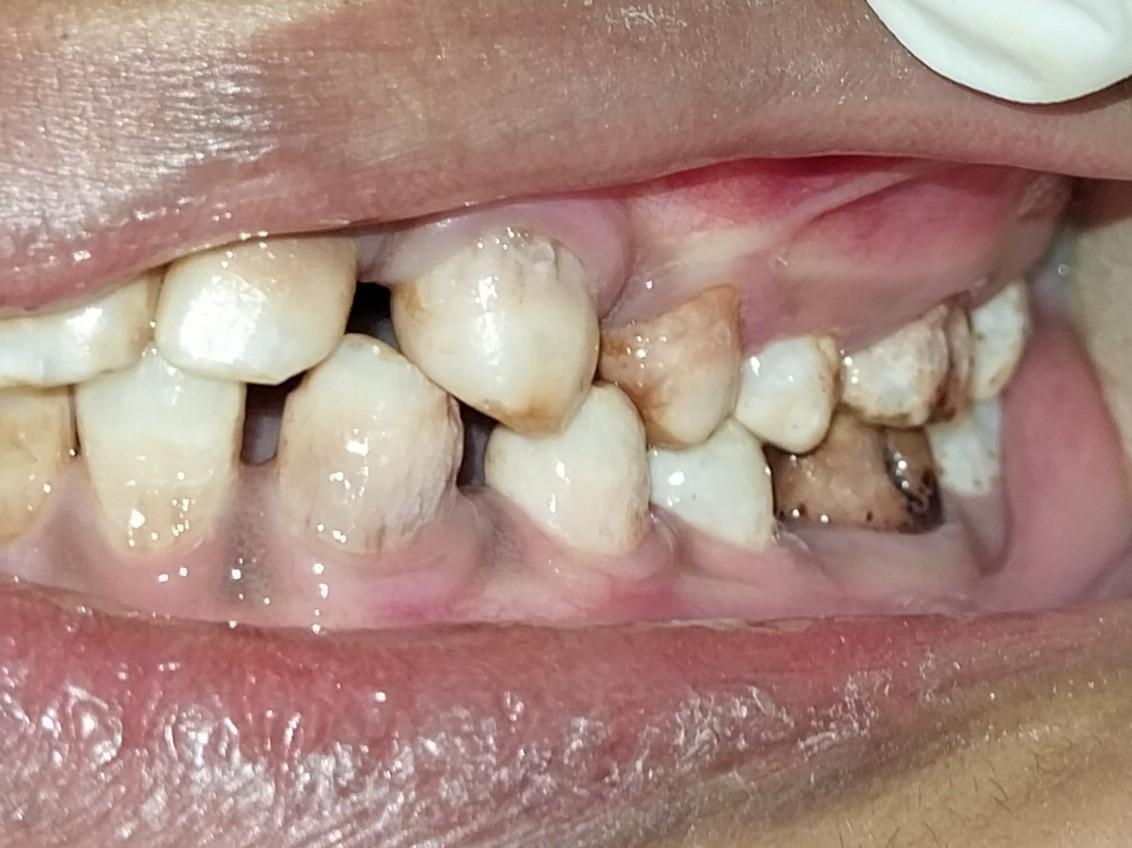D: (767, 408, 944, 536), (843, 295, 974, 432)
